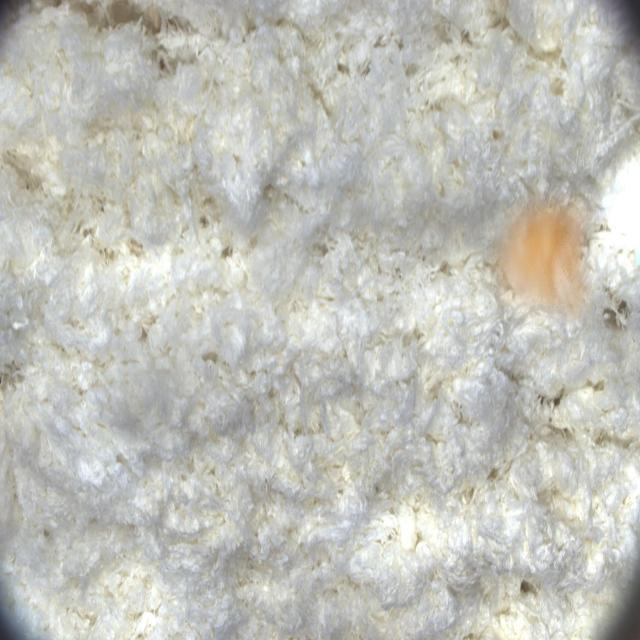dust: (488, 187, 599, 324)
